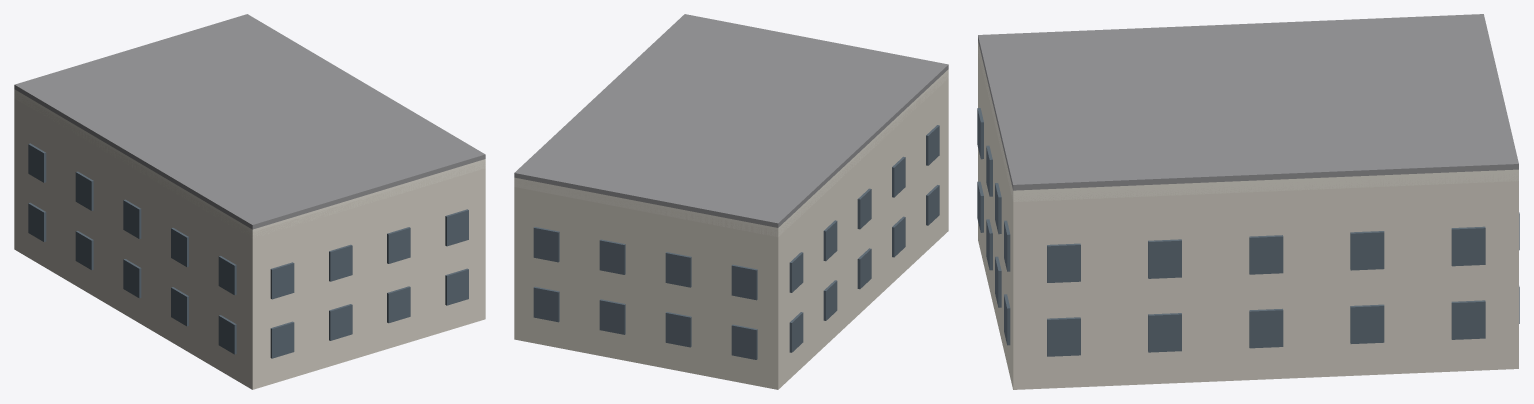
Rendered from s14_gis_247953_820768.glb.
The picture shows the model from 3 angles, left to right: view 1: azimuth 30°, elevation 25°; view 2: azimuth 150°, elevation 25°; view 3: azimuth 270°, elevation 25°; orthographic projection. The views are drawn at different scales.
Parts seen in each view (by area): view 1: mass, roofcap, cornice, win_2_0_0, win_2_1_0, win_2_0_1, win_2_0_3, win_2_1_1, win_2_1_2, win_2_1_3, win_2_0_2, win_1_1_1 (+9 smaller); view 2: mass, roofcap, cornice, win_0_0_1, win_0_1_3, win_0_0_0, win_0_0_3, win_0_1_1, win_0_1_2, win_0_0_2, win_0_1_0, win_1_0_2 (+9 smaller); view 3: mass, roofcap, cornice, win_3_0_4, win_3_1_3, win_3_1_2, win_3_0_3, win_3_1_4, win_3_0_2, win_3_0_0, win_3_0_1, win_3_1_1 (+1 smaller).
Part boxes in pixels (box(x1,y1,x2,y2)): mass: box(14, 92, 485, 389); roofcap: box(14, 14, 485, 229); cornice: box(14, 89, 485, 238); win_2_0_0: box(270, 321, 294, 358); win_2_1_0: box(270, 262, 294, 299); win_2_0_1: box(329, 304, 352, 340); win_2_0_3: box(445, 268, 468, 305); win_2_1_1: box(329, 244, 352, 281); win_2_1_2: box(387, 227, 410, 263); win_2_1_3: box(445, 209, 468, 246); win_2_0_2: box(387, 286, 410, 323); win_1_1_1: box(75, 171, 93, 210); mass: box(514, 72, 948, 389); roofcap: box(514, 14, 948, 227); cornice: box(514, 69, 948, 237); win_0_0_1: box(599, 299, 625, 334); win_0_1_3: box(731, 264, 757, 300); win_0_0_0: box(533, 286, 559, 322); win_0_0_3: box(731, 324, 757, 359); win_0_1_1: box(599, 239, 625, 274); win_0_1_2: box(665, 252, 691, 287); win_0_0_2: box(665, 312, 691, 347); win_0_1_0: box(533, 227, 559, 262); win_1_0_2: box(857, 248, 871, 289); mass: box(978, 44, 1518, 389); roofcap: box(978, 14, 1518, 190); cornice: box(978, 41, 1518, 201); win_3_0_4: box(1451, 300, 1485, 339); win_3_1_3: box(1350, 231, 1384, 270); win_3_1_2: box(1249, 235, 1283, 274); win_3_0_3: box(1350, 304, 1384, 343); win_3_1_4: box(1451, 226, 1485, 266); win_3_0_2: box(1249, 308, 1283, 348); win_3_0_0: box(1047, 317, 1080, 356); win_3_0_1: box(1148, 313, 1181, 352); win_3_1_1: box(1148, 239, 1181, 278).
Size of the model in its own units: 14.93 by 8.35 by 20.01.
